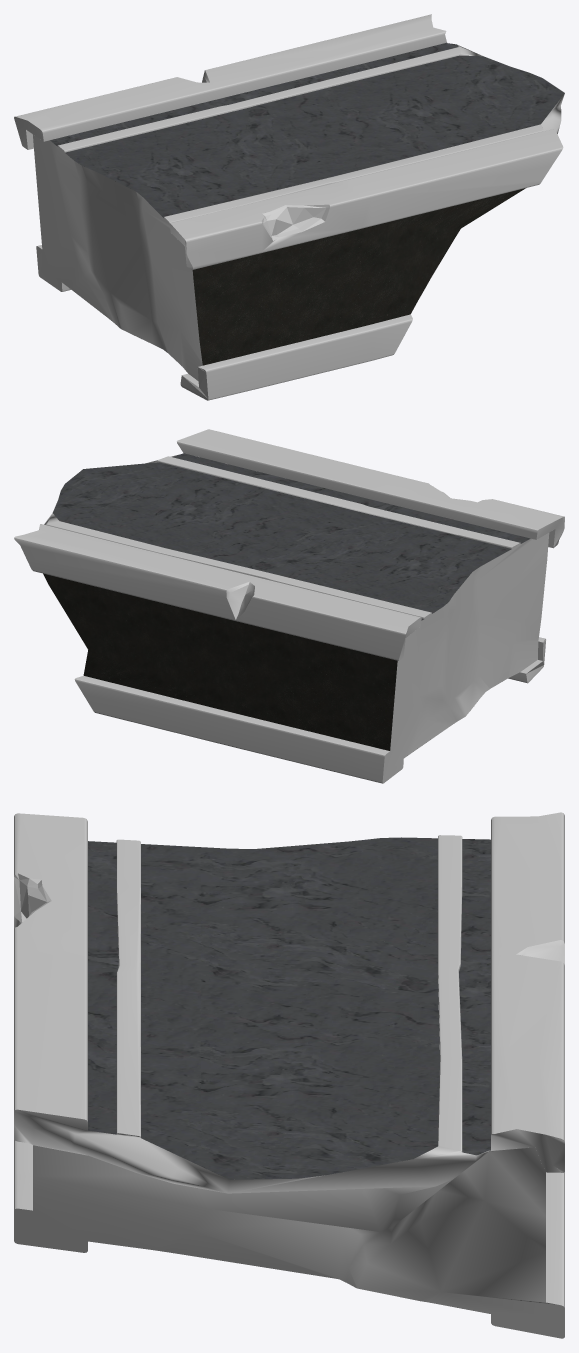
3 views of the same model, one above another, from view 1: azimuth 30°, elevation 25°; view 2: azimuth 150°, elevation 25°; view 3: azimuth 270°, elevation 25° (orthographic). The views are drawn at different scales.
Parts seen in each view (by area): view 1: SM_Kuldras_Arena_BridgePiece_02_LOD0; view 2: SM_Kuldras_Arena_BridgePiece_02_LOD0; view 3: SM_Kuldras_Arena_BridgePiece_02_LOD0.
Boxes of the visible parts, bbox=[...] form: SM_Kuldras_Arena_BridgePiece_02_LOD0: bbox=[14, 14, 564, 400]; SM_Kuldras_Arena_BridgePiece_02_LOD0: bbox=[14, 429, 564, 783]; SM_Kuldras_Arena_BridgePiece_02_LOD0: bbox=[14, 812, 564, 1338].
Size of the model in its own units: 17.88 by 6.39 by 11.84.
